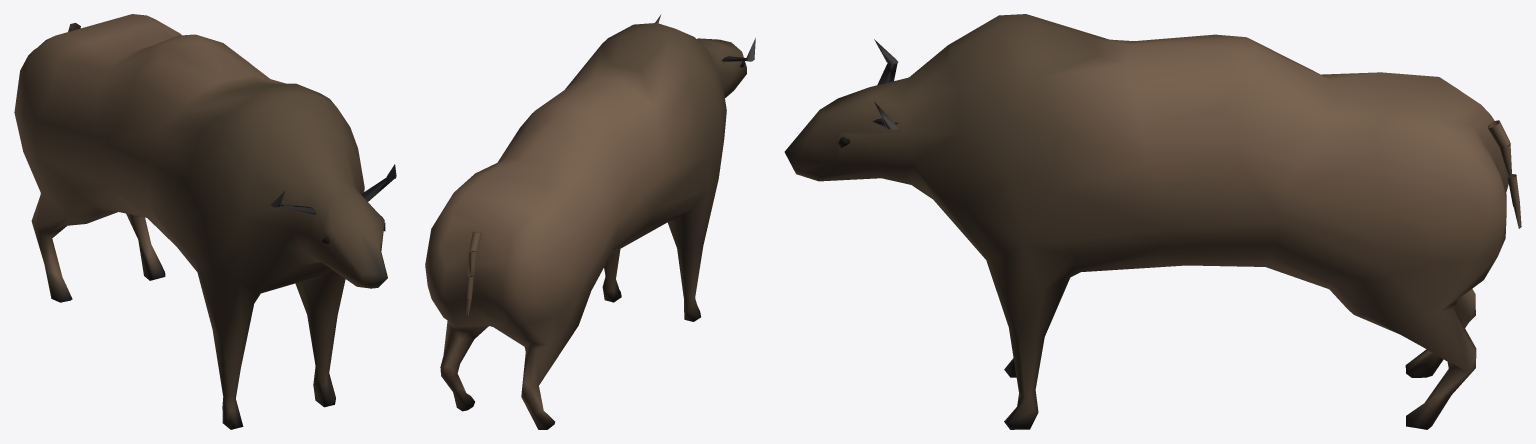
Rendered from wisent.glb.
3 views of the same model, side by side, from view 1: azimuth 30°, elevation 25°; view 2: azimuth 150°, elevation 25°; view 3: azimuth 270°, elevation 25° (orthographic). The views are drawn at different scales.
Visible parts, largest first — view 1: lack; view 2: lack; view 3: lack.
Part boxes in pixels (x1,y1,x2,y2): lack: (14,14,396,429); lack: (425,14,755,429); lack: (784,14,1521,429).
Size of the model in its own units: 1.04 by 2.01 by 3.54.
